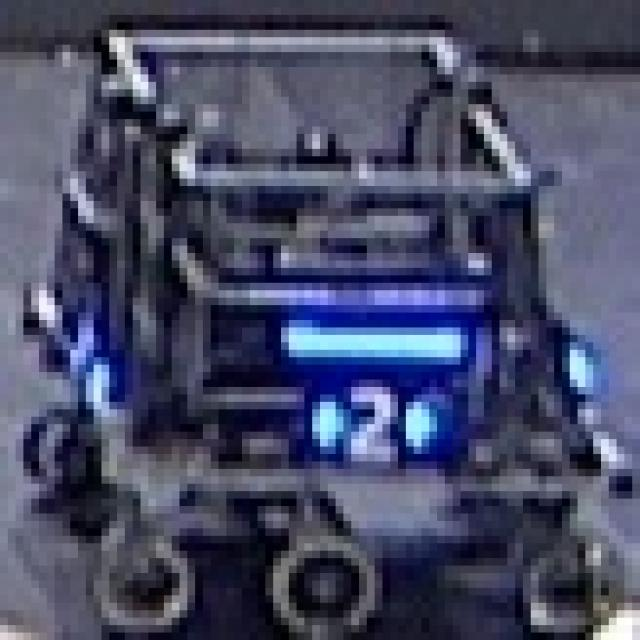B2: (304, 379, 445, 462)
